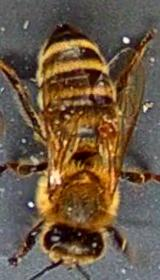varroa_mite: (90, 112, 124, 145)
